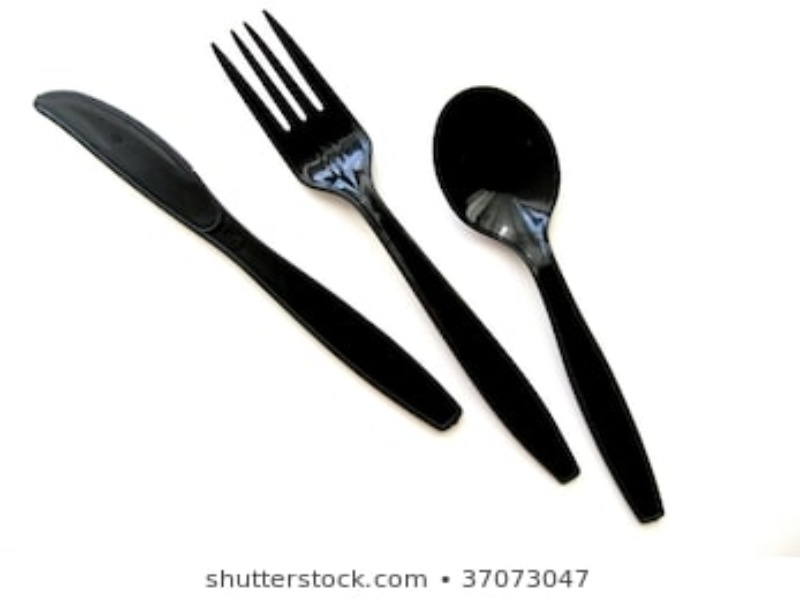plastic-silverware: (209, 9, 583, 486), (26, 90, 464, 433), (430, 85, 673, 524)
